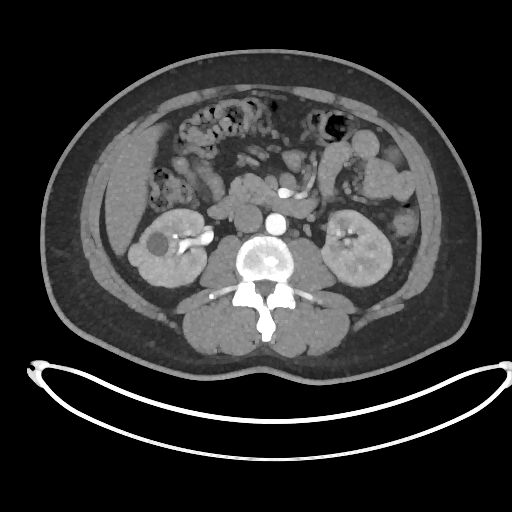Lesion: (128, 242, 146, 269)
